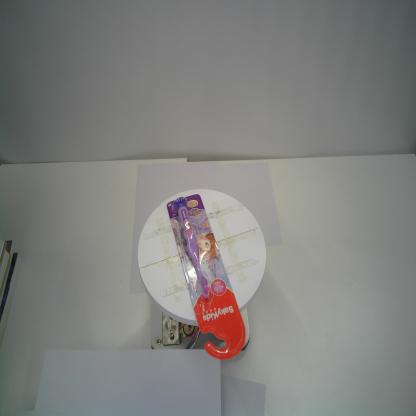Personal Hygiene: (167, 193, 247, 360)
